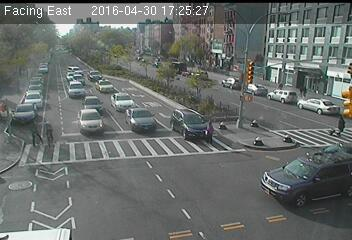neg: (137, 100, 165, 137), (85, 110, 110, 144), (44, 178, 69, 212), (239, 188, 261, 218), (291, 175, 312, 203), (252, 132, 271, 158), (105, 168, 123, 193), (91, 60, 108, 83), (316, 50, 333, 73), (220, 46, 236, 68), (275, 75, 291, 96), (23, 49, 39, 70), (169, 188, 184, 208), (286, 31, 299, 47), (277, 112, 286, 124)
pos: (19, 115, 47, 151), (201, 116, 224, 146), (333, 112, 350, 134)
